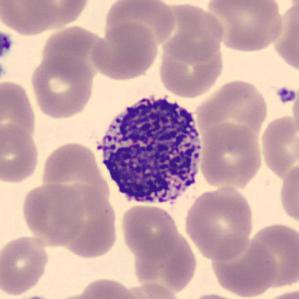Basophil: (91, 89, 208, 212)
Platelets: (274, 84, 297, 106), (0, 30, 14, 61), (0, 62, 7, 82)
RBC: (183, 185, 256, 262), (193, 77, 270, 148), (39, 139, 111, 212), (198, 121, 264, 190), (28, 54, 96, 120), (89, 21, 161, 82), (20, 181, 86, 247), (206, 0, 285, 54), (209, 235, 276, 298), (158, 34, 226, 95), (58, 189, 118, 258), (130, 230, 197, 291), (41, 24, 109, 84), (240, 220, 299, 288), (157, 4, 225, 61), (102, 0, 177, 50), (119, 202, 179, 260), (0, 232, 50, 297), (0, 77, 38, 153), (258, 112, 298, 178), (0, 124, 42, 184), (15, 0, 92, 31), (266, 0, 298, 71), (0, 0, 56, 36), (75, 275, 140, 299), (278, 159, 298, 227), (122, 281, 185, 299), (257, 287, 298, 299), (184, 291, 245, 299)
